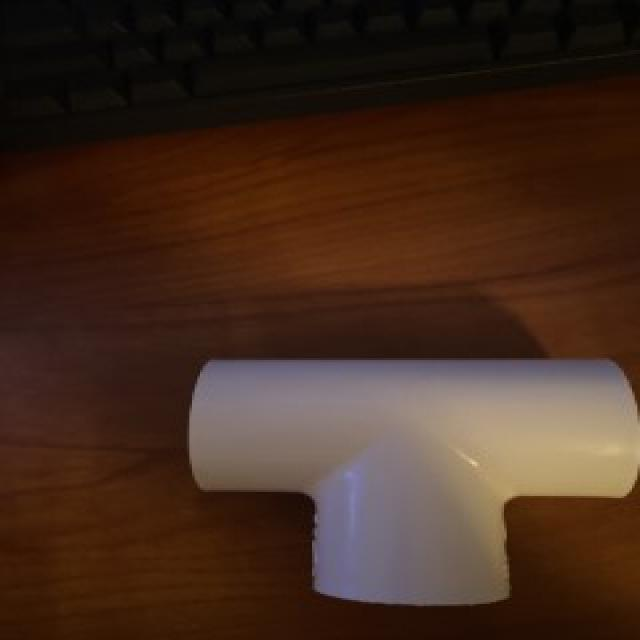T Joint: (186, 358, 640, 609)
